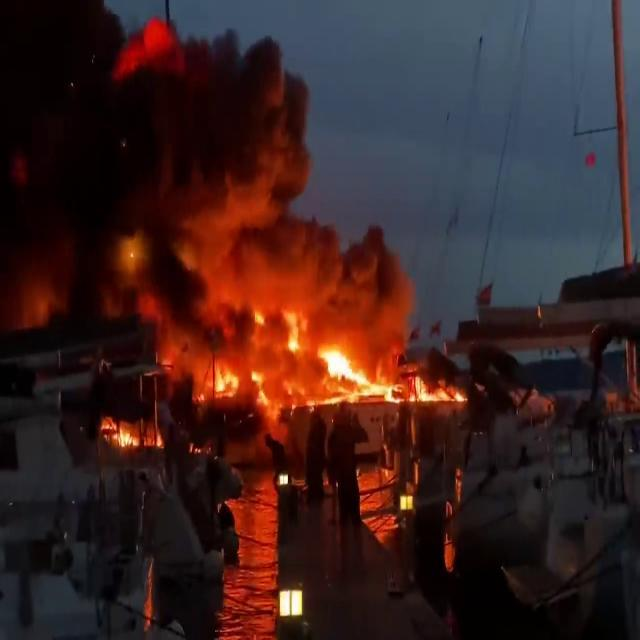Fire: (203, 298, 468, 417), (98, 412, 144, 456)
Smoke: (1, 4, 412, 346)
